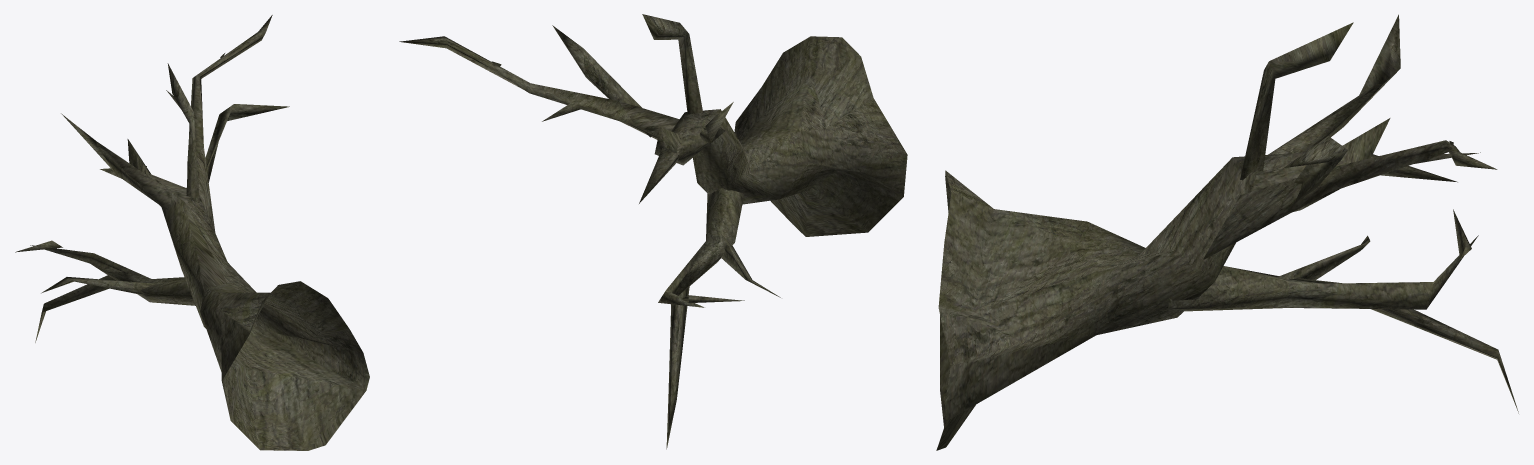
File: TI_Old_Tree_04_LOD_03.fbx
3 renders of one model, left to right at view 1: azimuth 30°, elevation 25°; view 2: azimuth 150°, elevation 25°; view 3: azimuth 270°, elevation 25°, orthographic. The views are drawn at different scales.
Parts seen in each view (by area): view 1: TI_Old_Tree_04_LOD_03; view 2: TI_Old_Tree_04_LOD_03; view 3: TI_Old_Tree_04_LOD_03.
Part boxes in pixels (x1=…): TI_Old_Tree_04_LOD_03: x1=15, y1=15, x2=369, y2=450; TI_Old_Tree_04_LOD_03: x1=399, y1=14, x2=907, y2=449; TI_Old_Tree_04_LOD_03: x1=936, y1=14, x2=1518, y2=450.
Bounding box in the file's own units: 7.05 × 7.41 × 8.73.
